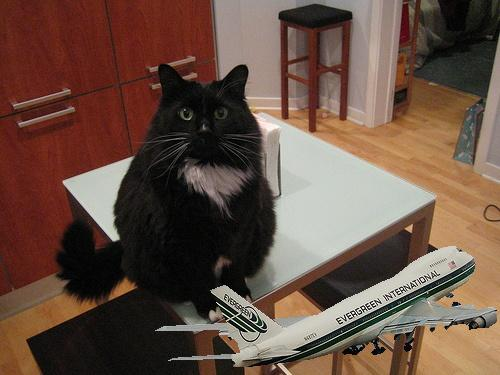tampered: (156, 247, 497, 367)
